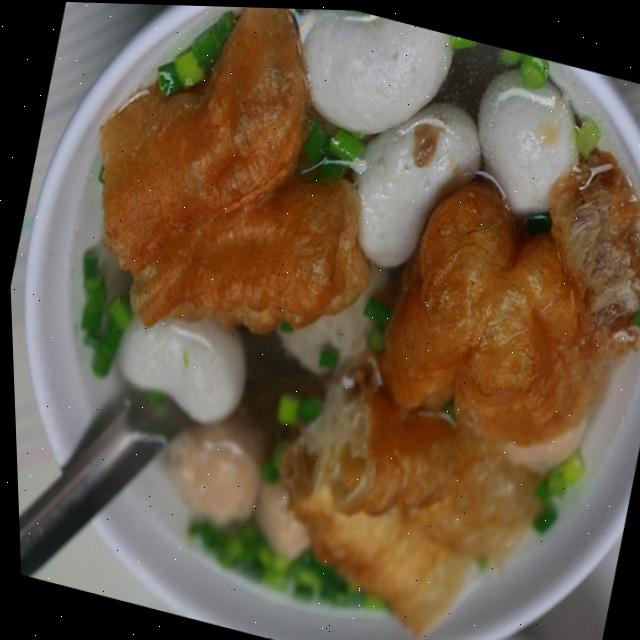熟制海鲜: (36, 1, 637, 600)
